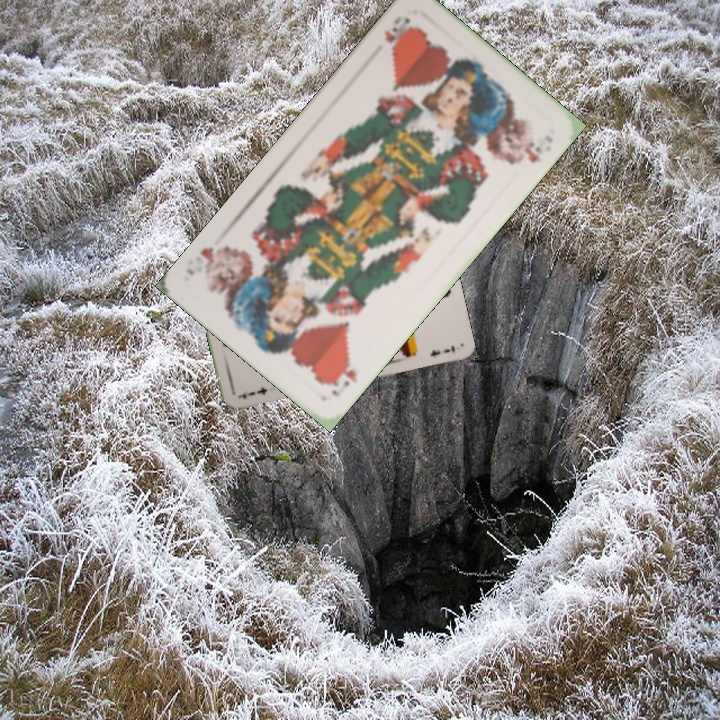E7: (235, 383, 270, 402)
HO: (380, 11, 415, 57), (325, 354, 360, 400)
